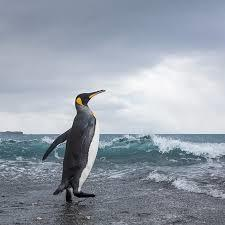king: (49, 77, 121, 210)
